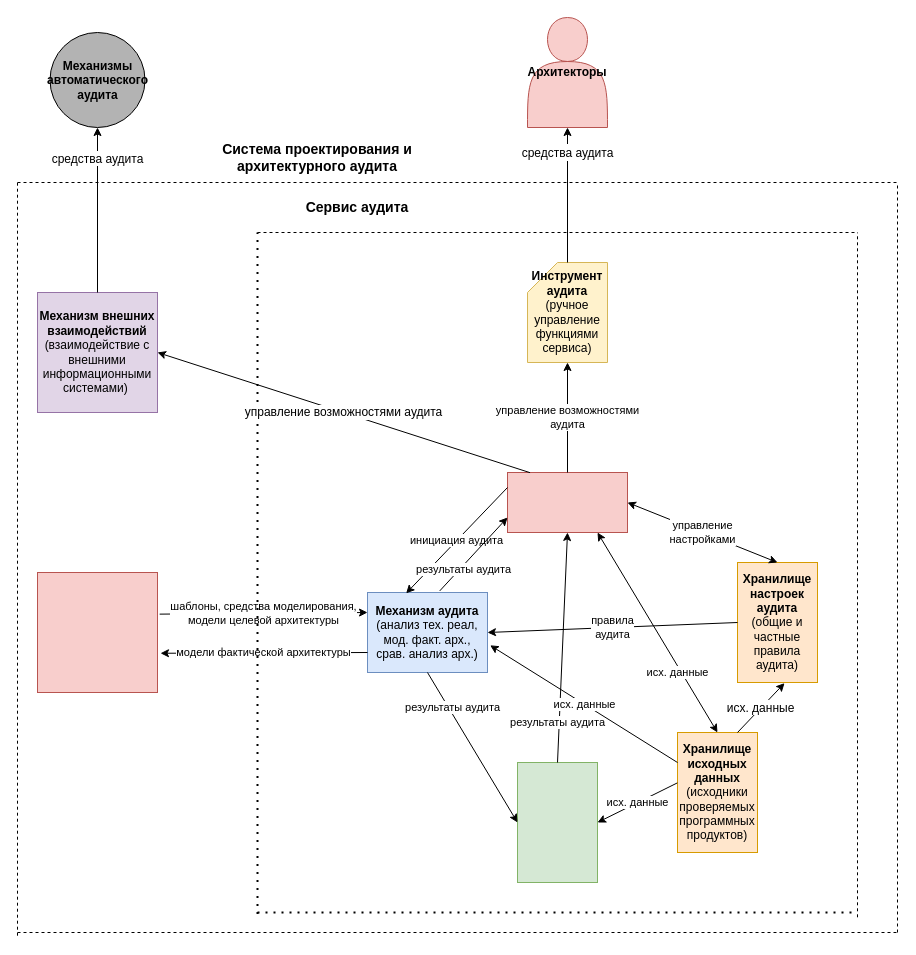
This 916x955 diagram has some shape labels left out. The centre of each missing label's shape, as x and y in pixels:
"Внешний интерфейс (API сервиса)" goes at (567,502).
"Сервис моделирования (сборка и хранение целевых и факт. моделей и их описаний)" goes at (97,632).
"Хранилище результатов аудита (результаты аудитов)" goes at (557,822).
